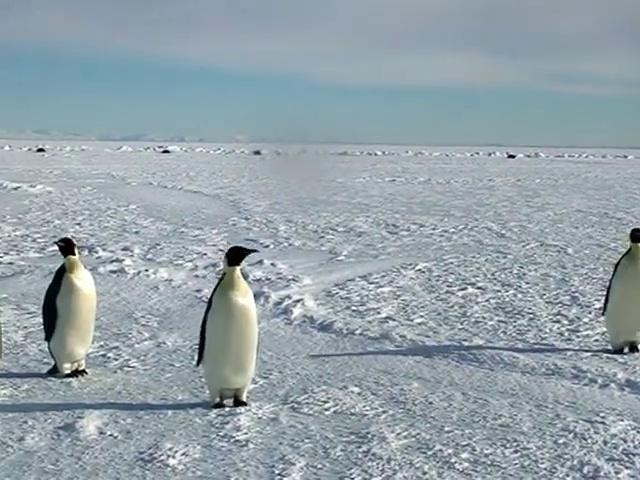animal: (197, 246, 257, 407)
